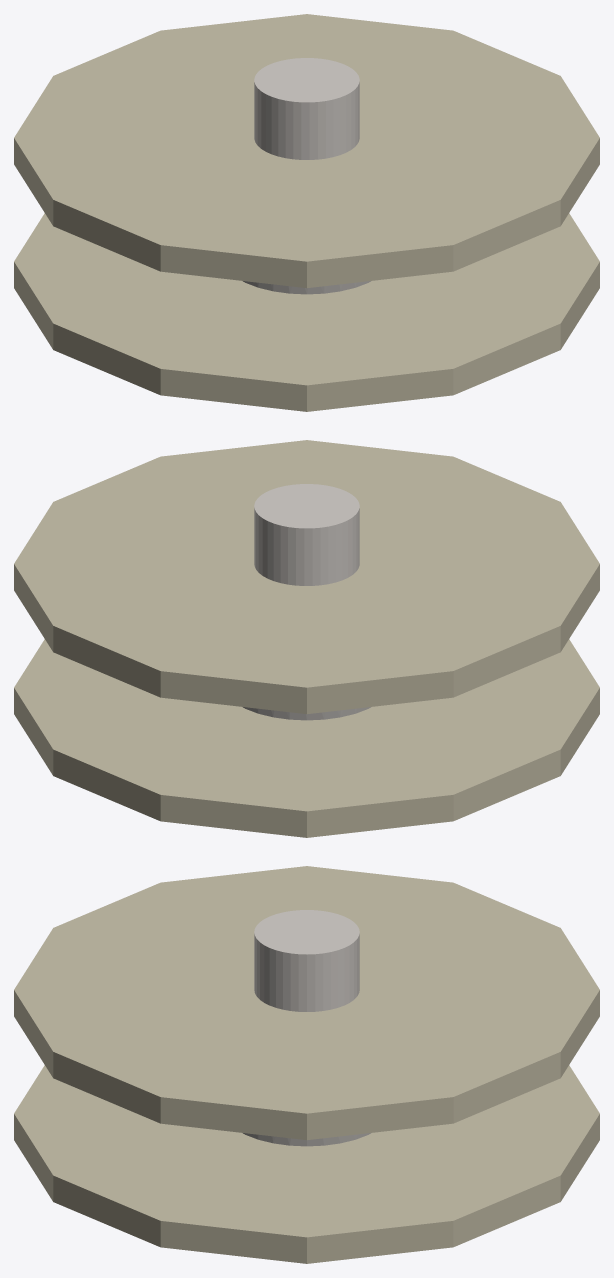
The model's file is yoyo-internals.glb.
3 views of the same model, one above another, from view 1: azimuth 30°, elevation 25°; view 2: azimuth 150°, elevation 25°; view 3: azimuth 270°, elevation 25° (orthographic).
Parts seen in each view (by area): view 1: axle_ring_4, axle_ring_1, center_hub_2, axle_body_3; view 2: axle_ring_4, axle_ring_1, center_hub_2, axle_body_3; view 3: axle_ring_4, axle_ring_1, center_hub_2, axle_body_3.
Part boxes in pixels (<box>): axle_ring_4: <box>14,14,599,288</box>; axle_ring_1: <box>14,213,599,411</box>; center_hub_2: <box>254,58,359,159</box>; axle_body_3: <box>243,281,370,294</box>; axle_ring_4: <box>14,440,599,714</box>; axle_ring_1: <box>14,639,599,837</box>; center_hub_2: <box>254,484,359,585</box>; axle_body_3: <box>243,707,370,720</box>; axle_ring_4: <box>14,866,599,1140</box>; axle_ring_1: <box>14,1065,599,1263</box>; center_hub_2: <box>254,910,359,1011</box>; axle_body_3: <box>243,1133,370,1146</box>.
Size of the model in its own units: 0.02 by 0.01 by 0.02.
